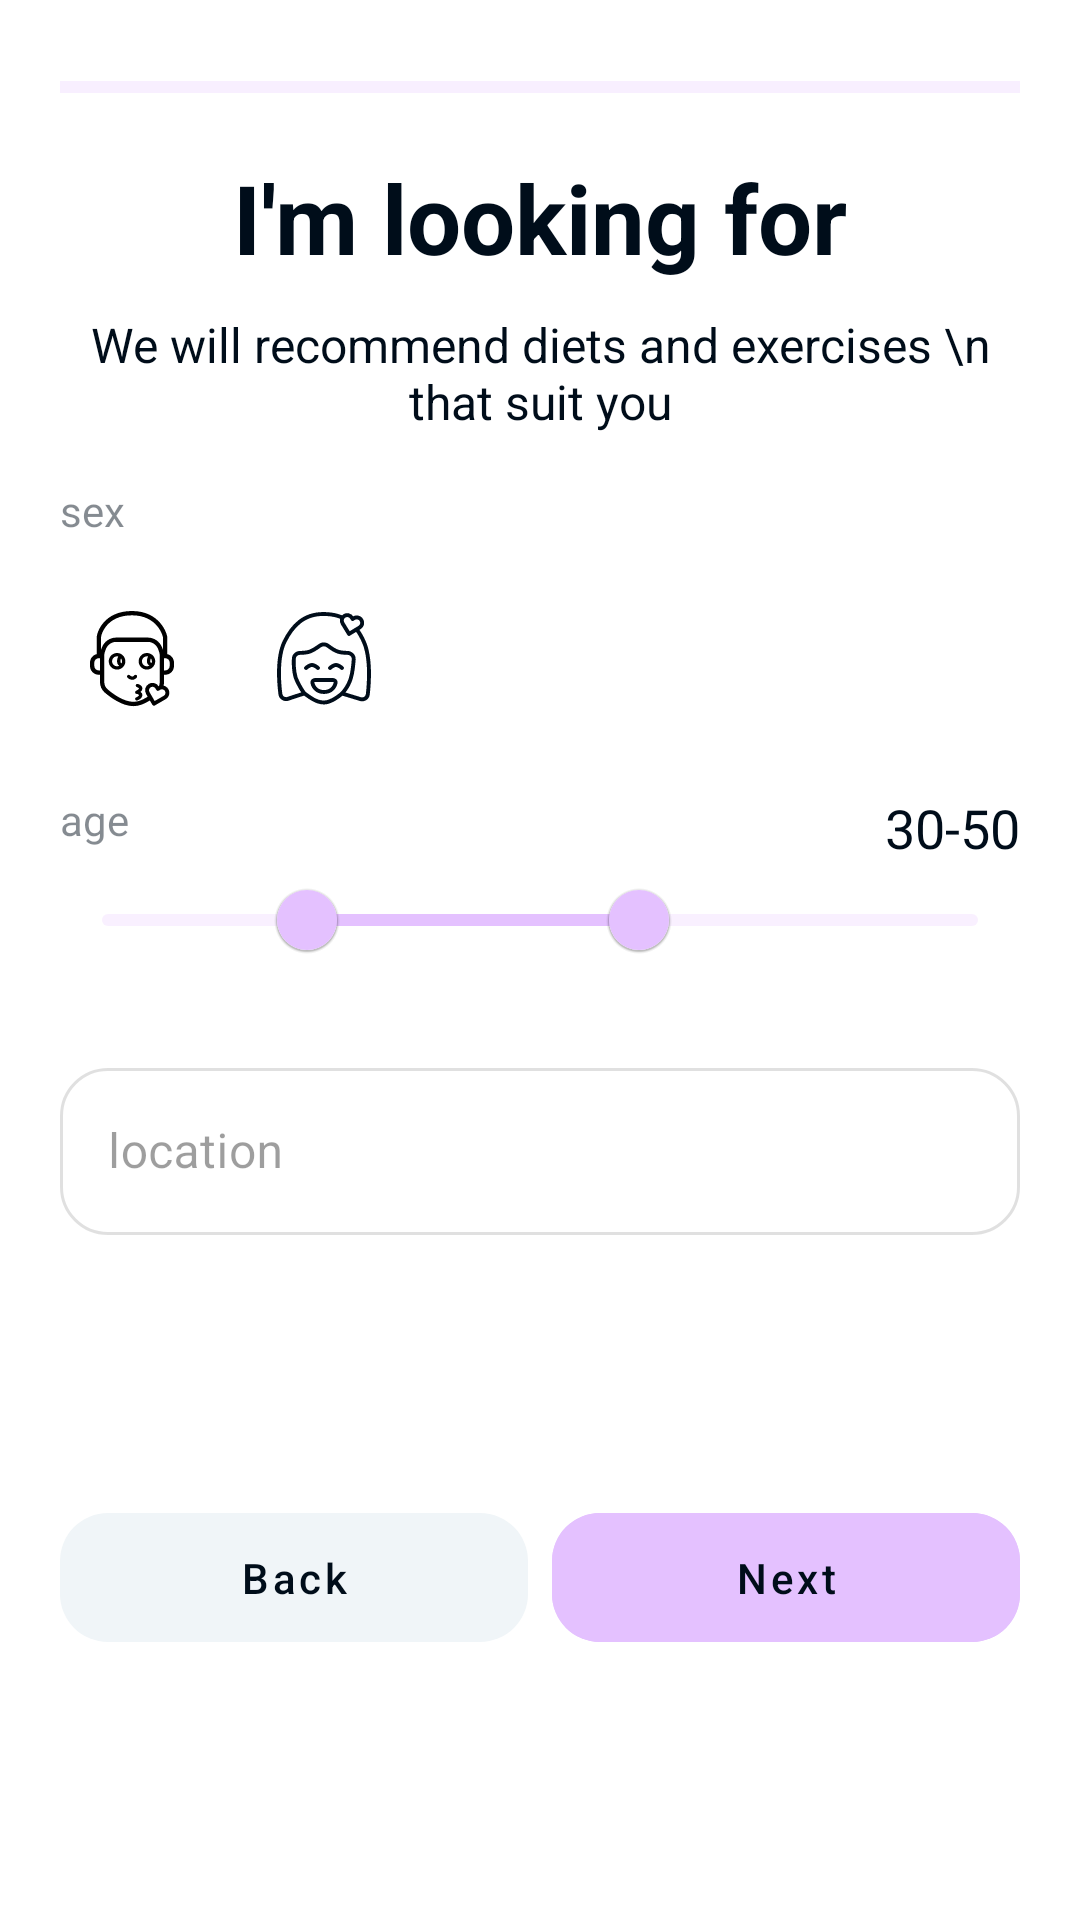

Where icons sit on this 1080 x 1920 app screen, as (x1, y1, x2, y2):
man: (90, 611, 174, 707)
woman: (277, 612, 371, 705)
